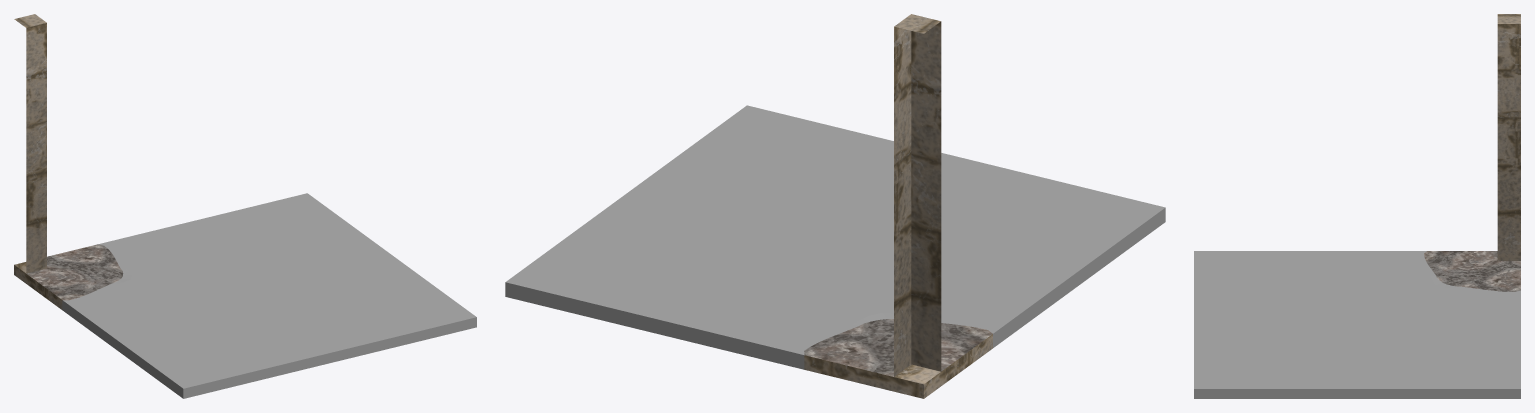
Rendered from ModuleCornerWallWithGround.fbx.
3 views of the same model, side by side, from view 1: azimuth 30°, elevation 25°; view 2: azimuth 150°, elevation 25°; view 3: azimuth 270°, elevation 25° (orthographic). The views are drawn at different scales.
Visible parts, largest first — view 1: ModuleCornerDirtTile, ModuleCornerWallWithGroundWalls, ModuleCornerDirtEdge, ModuleCornerCobblesTile, ModuleCornerCobblesEdge; view 2: ModuleCornerDirtTile, ModuleCornerWallWithGroundWalls, ModuleCornerDirtEdge, ModuleCornerCobblesTile, ModuleCornerCobblesEdge; view 3: ModuleCornerDirtTile, ModuleCornerWallWithGroundWalls, ModuleCornerDirtEdge, ModuleCornerCobblesTile.
Boxes of the visible parts, left/top/right/bottom form: ModuleCornerDirtTile: left=63, top=193, right=476, bottom=388; ModuleCornerWallWithGroundWalls: left=14, top=14, right=46, bottom=273; ModuleCornerDirtEdge: left=62, top=300, right=476, bottom=398; ModuleCornerCobblesTile: left=26, top=244, right=123, bottom=300; ModuleCornerCobblesEdge: left=14, top=262, right=62, bottom=309; ModuleCornerDirtTile: left=505, top=105, right=1165, bottom=354; ModuleCornerWallWithGroundWalls: left=894, top=14, right=941, bottom=376; ModuleCornerDirtEdge: left=505, top=208, right=1165, bottom=369; ModuleCornerCobblesTile: left=804, top=319, right=992, bottom=376; ModuleCornerCobblesEdge: left=804, top=334, right=992, bottom=398; ModuleCornerDirtTile: left=1194, top=251, right=1520, bottom=388; ModuleCornerWallWithGroundWalls: left=1497, top=14, right=1520, bottom=260; ModuleCornerDirtEdge: left=1194, top=389, right=1520, bottom=398; ModuleCornerCobblesTile: left=1424, top=251, right=1520, bottom=291.
Size of the model in its own units: 300 by 250 by 300.
